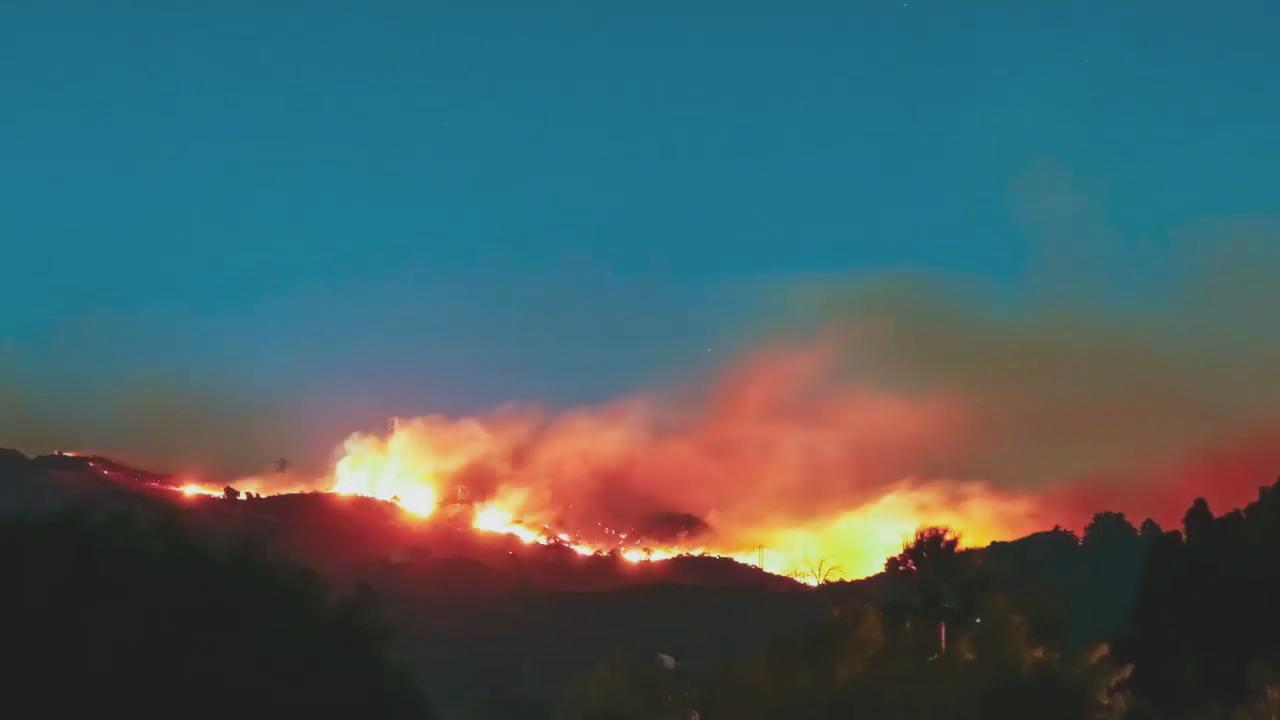Fire: (621, 500, 995, 597), (338, 440, 440, 524), (469, 493, 600, 558), (173, 483, 298, 504), (62, 447, 81, 459)
